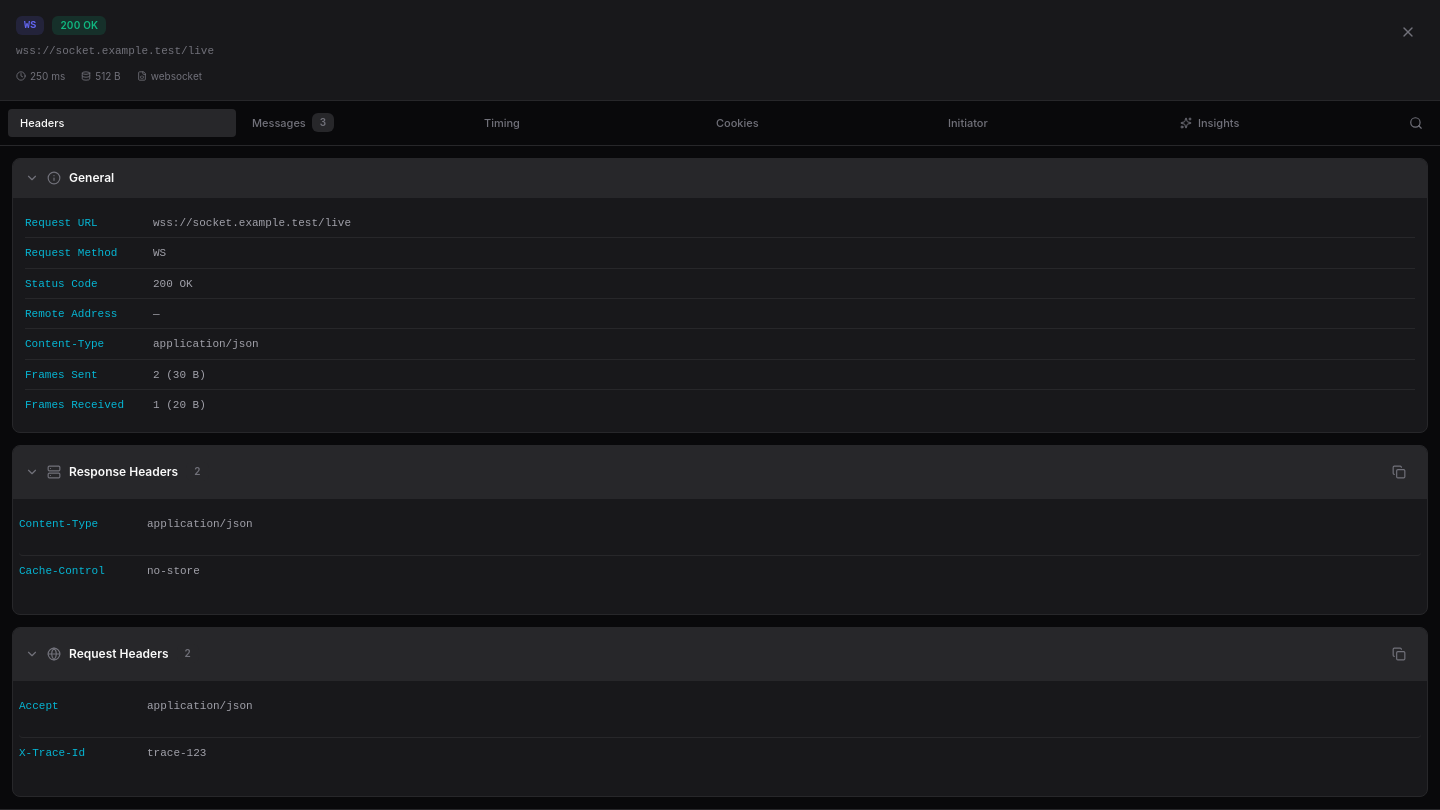
Test: NetworkRequestDetails (WebSocket) › opens a frame in the detail pane and closes it
Click the button "Messages 3": [354, 123] box [240, 107, 468, 138]
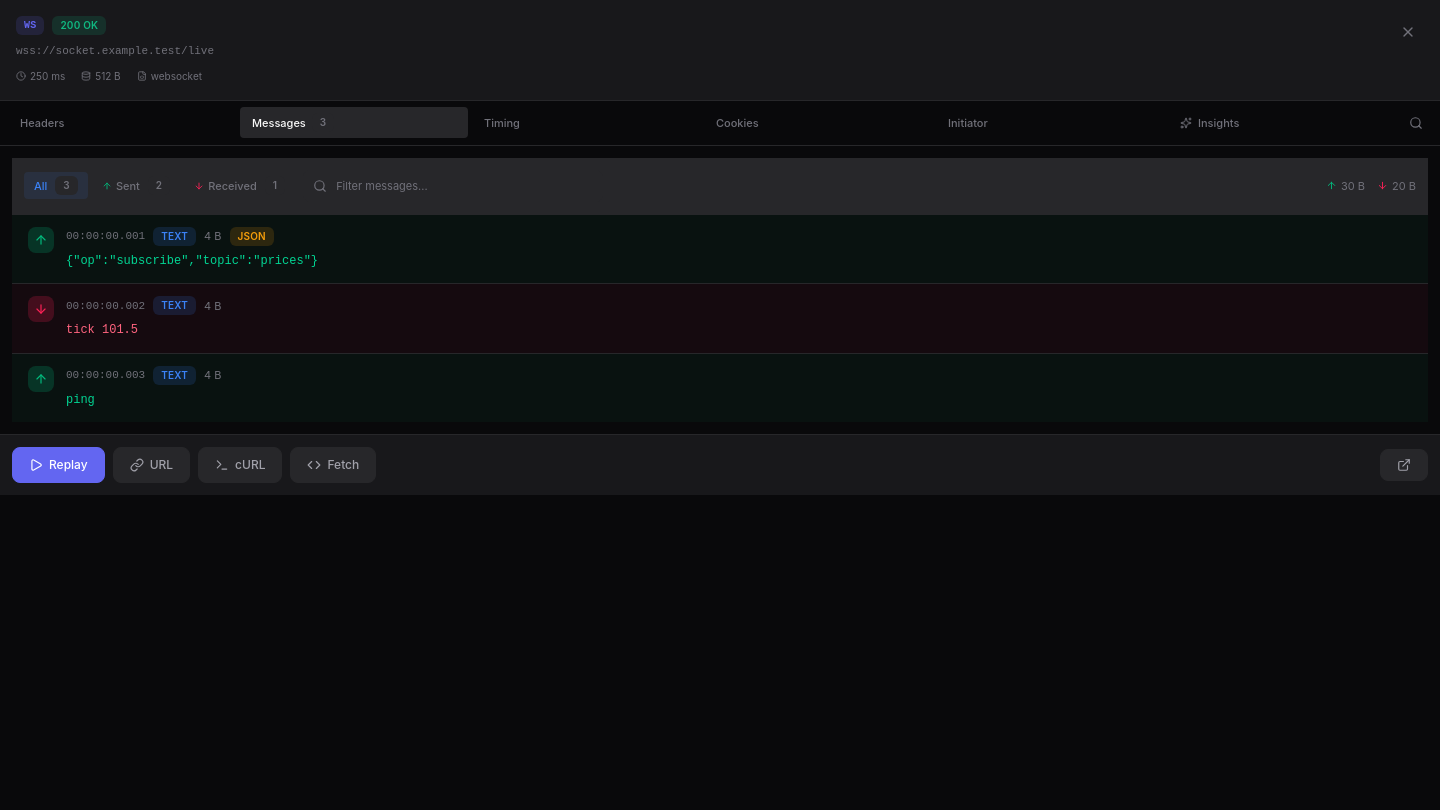
Click the text "tick 101.5": [102, 330] box [66, 323, 138, 337]
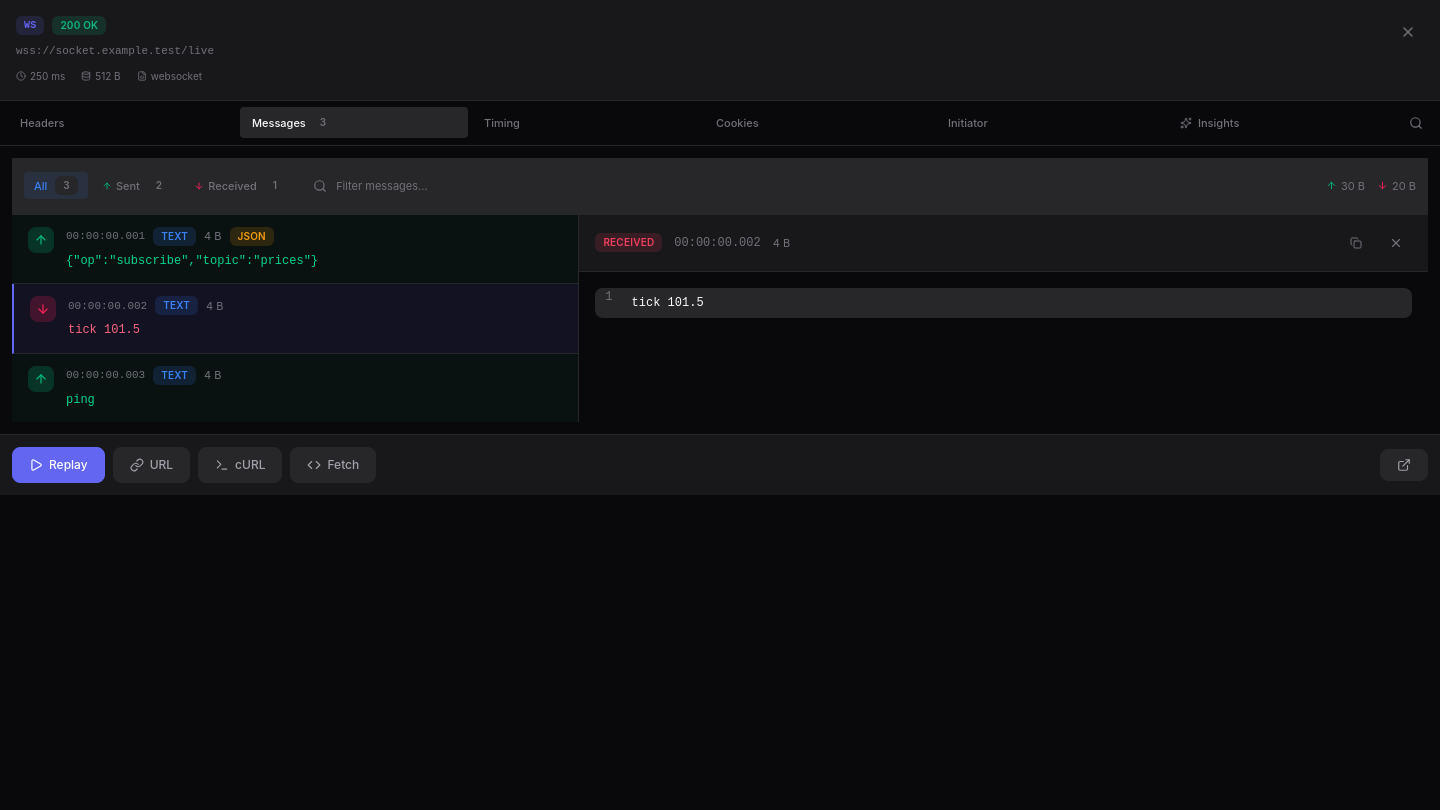
Click the button titled "Close": [1396, 243] box [1380, 227, 1412, 259]
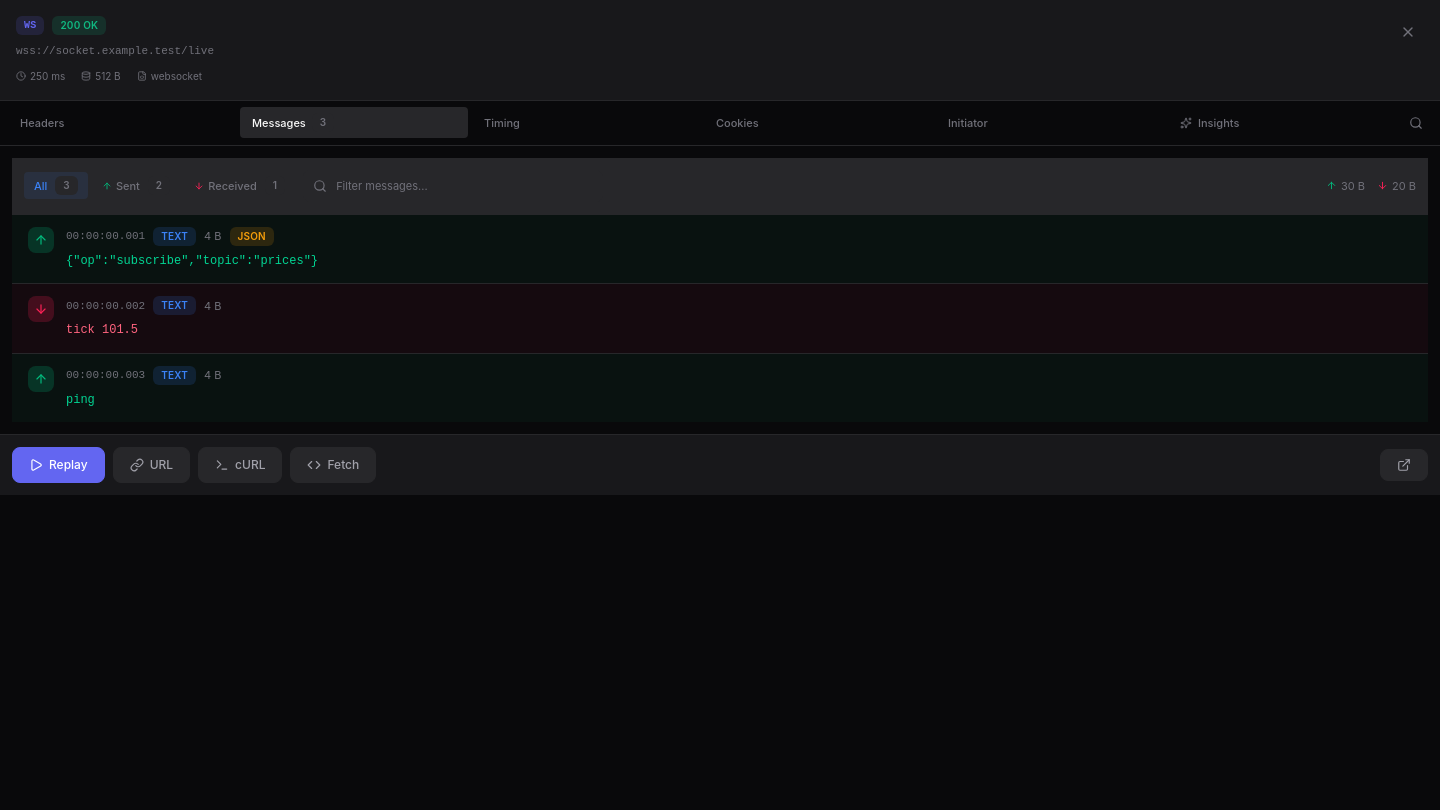
Result: the button titled "Close" is gone
